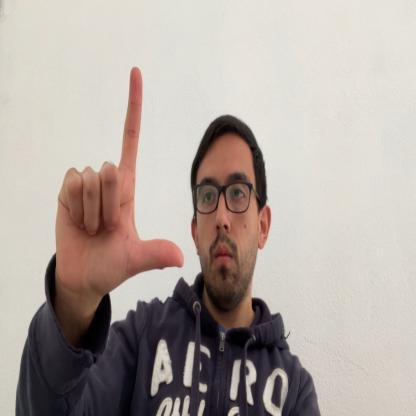L: (55, 66, 184, 301)
